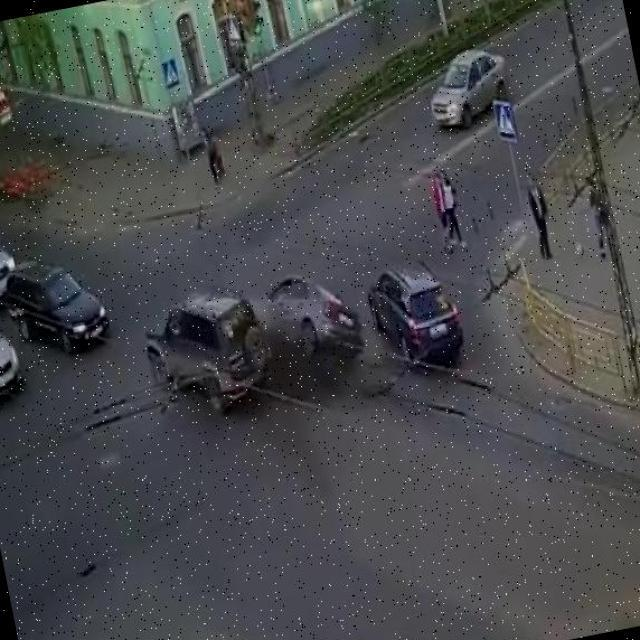accident: (132, 257, 377, 432)
